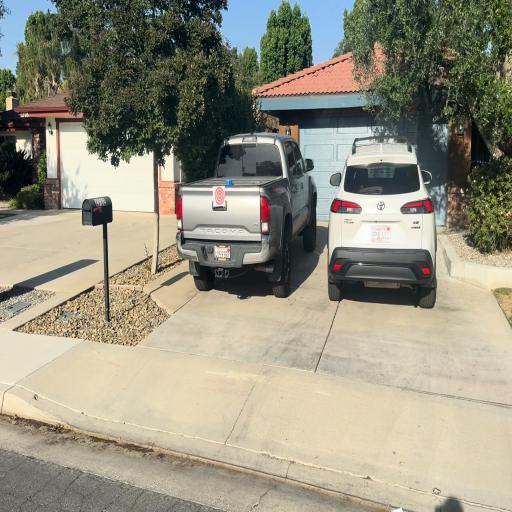bullseye: (214, 186, 225, 206)
